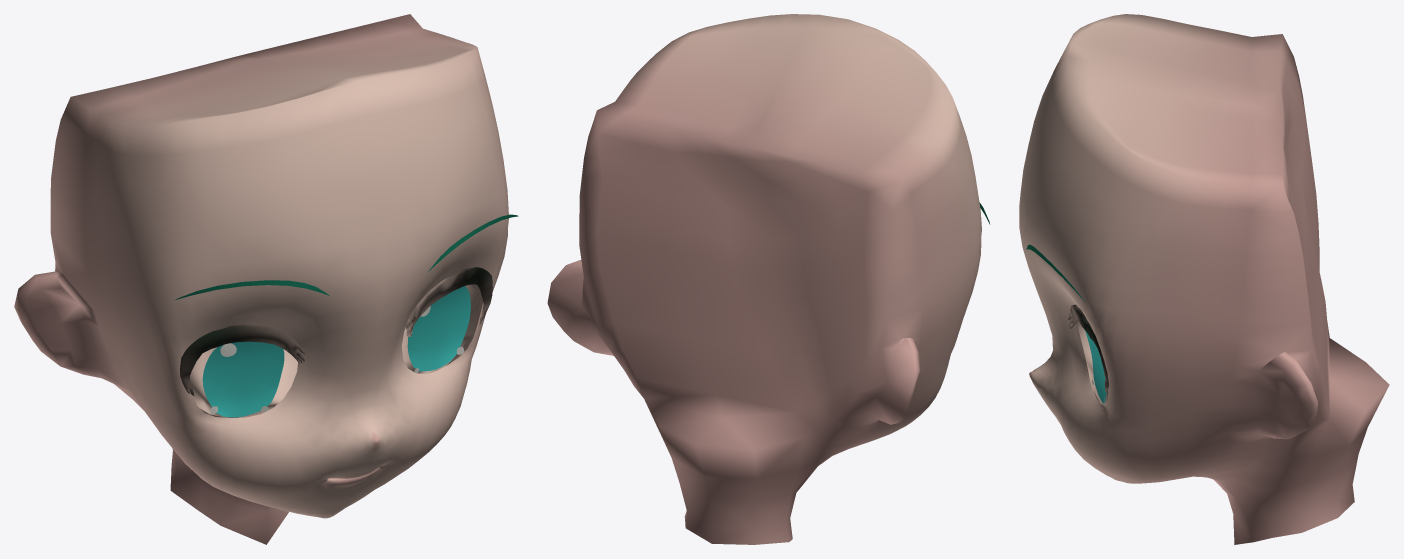
Rendered from M_MikuHead.fbx.
3 views of the same model, side by side, from view 1: azimuth 30°, elevation 25°; view 2: azimuth 150°, elevation 25°; view 3: azimuth 270°, elevation 25° (orthographic). The views are drawn at different scales.
Parts seen in each view (by area): view 1: face; view 2: face; view 3: face.
Part boxes in pixels (bbox=[...]): face: bbox=[14, 14, 518, 544]; face: bbox=[547, 14, 990, 544]; face: bbox=[1019, 14, 1389, 544].
Size of the model in its own units: 21.65 by 26.25 by 18.
